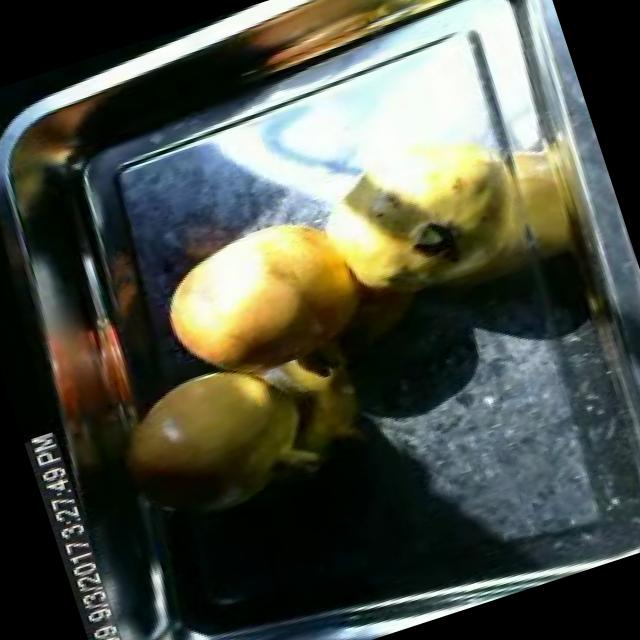fruit: (295, 94, 555, 323), (129, 192, 394, 416), (90, 335, 342, 549)
